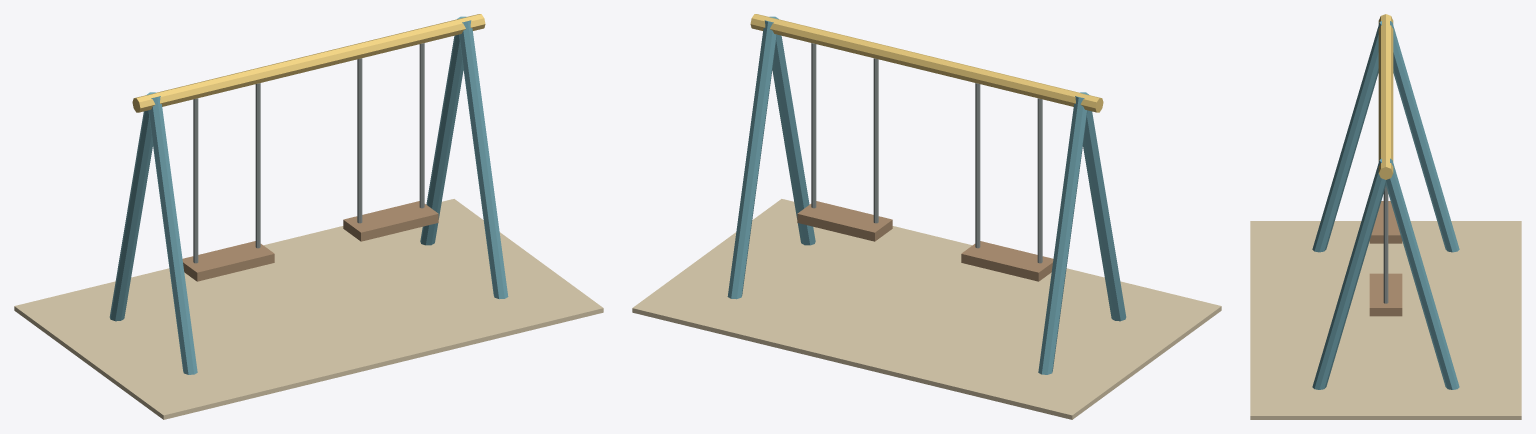
The model's file is town_playground.glb.
3 views of the same model, side by side, from view 1: azimuth 30°, elevation 25°; view 2: azimuth 150°, elevation 25°; view 3: azimuth 270°, elevation 25° (orthographic). The views are drawn at different scales.
Parts seen in each view (by area): view 1: soft sand under swings, swing top beam, playground swing frame.001, playground swing frame.003, playground swing frame, playground swing frame.002, swing seat.001, swing seat, swing chain, swing chain.002, swing chain.003, swing chain.001; view 2: soft sand under swings, swing top beam, playground swing frame, playground swing frame.002, playground swing frame.001, playground swing frame.003, swing seat.001, swing seat, swing chain, swing chain.002, swing chain.003, swing chain.001; view 3: soft sand under swings, playground swing frame.002, playground swing frame.003, playground swing frame, playground swing frame.001, swing top beam, swing seat.001, swing seat, swing chain.003.
Part boxes in pixels (<box>): soft sand under swings: <box>14,199,603,419</box>; swing top beam: <box>132,14,485,112</box>; playground swing frame.001: <box>148,96,197,374</box>; playground swing frame.003: <box>459,20,508,299</box>; playground swing frame: <box>109,92,155,321</box>; playground swing frame.002: <box>420,16,466,245</box>; swing seat.001: <box>343,201,438,241</box>; swing seat: <box>182,241,274,281</box>; swing chain: <box>193,98,198,263</box>; swing chain.002: <box>357,58,362,223</box>; swing chain.003: <box>419,43,424,208</box>; swing chain.001: <box>255,83,260,248</box>; soft sand under swings: <box>632,199,1221,419</box>; swing top beam: <box>750,14,1103,112</box>; playground swing frame: <box>1038,96,1087,374</box>; playground swing frame.002: <box>727,20,776,299</box>; playground swing frame.001: <box>1080,92,1126,321</box>; playground swing frame.003: <box>769,16,815,245</box>; swing seat.001: <box>797,201,892,241</box>; swing seat: <box>961,241,1053,281</box>; swing chain: <box>1037,98,1042,263</box>; swing chain.002: <box>873,58,878,223</box>; swing chain.003: <box>811,43,816,208</box>; swing chain.001: <box>975,83,980,248</box>; soft sand under swings: <box>1250,221,1521,419</box>; playground swing frame.002: <box>1386,158,1459,389</box>; playground swing frame.003: <box>1312,158,1385,389</box>; playground swing frame: <box>1390,21,1459,252</box>; playground swing frame.001: <box>1312,21,1381,252</box>; swing top beam: <box>1378,14,1393,179</box>; swing seat.001: <box>1369,273,1402,316</box>; swing seat: <box>1369,201,1402,243</box>; swing chain.003: <box>1383,186,1388,303</box>.
Bounding box in the file's own units: 5.1 × 2.85 × 3.
